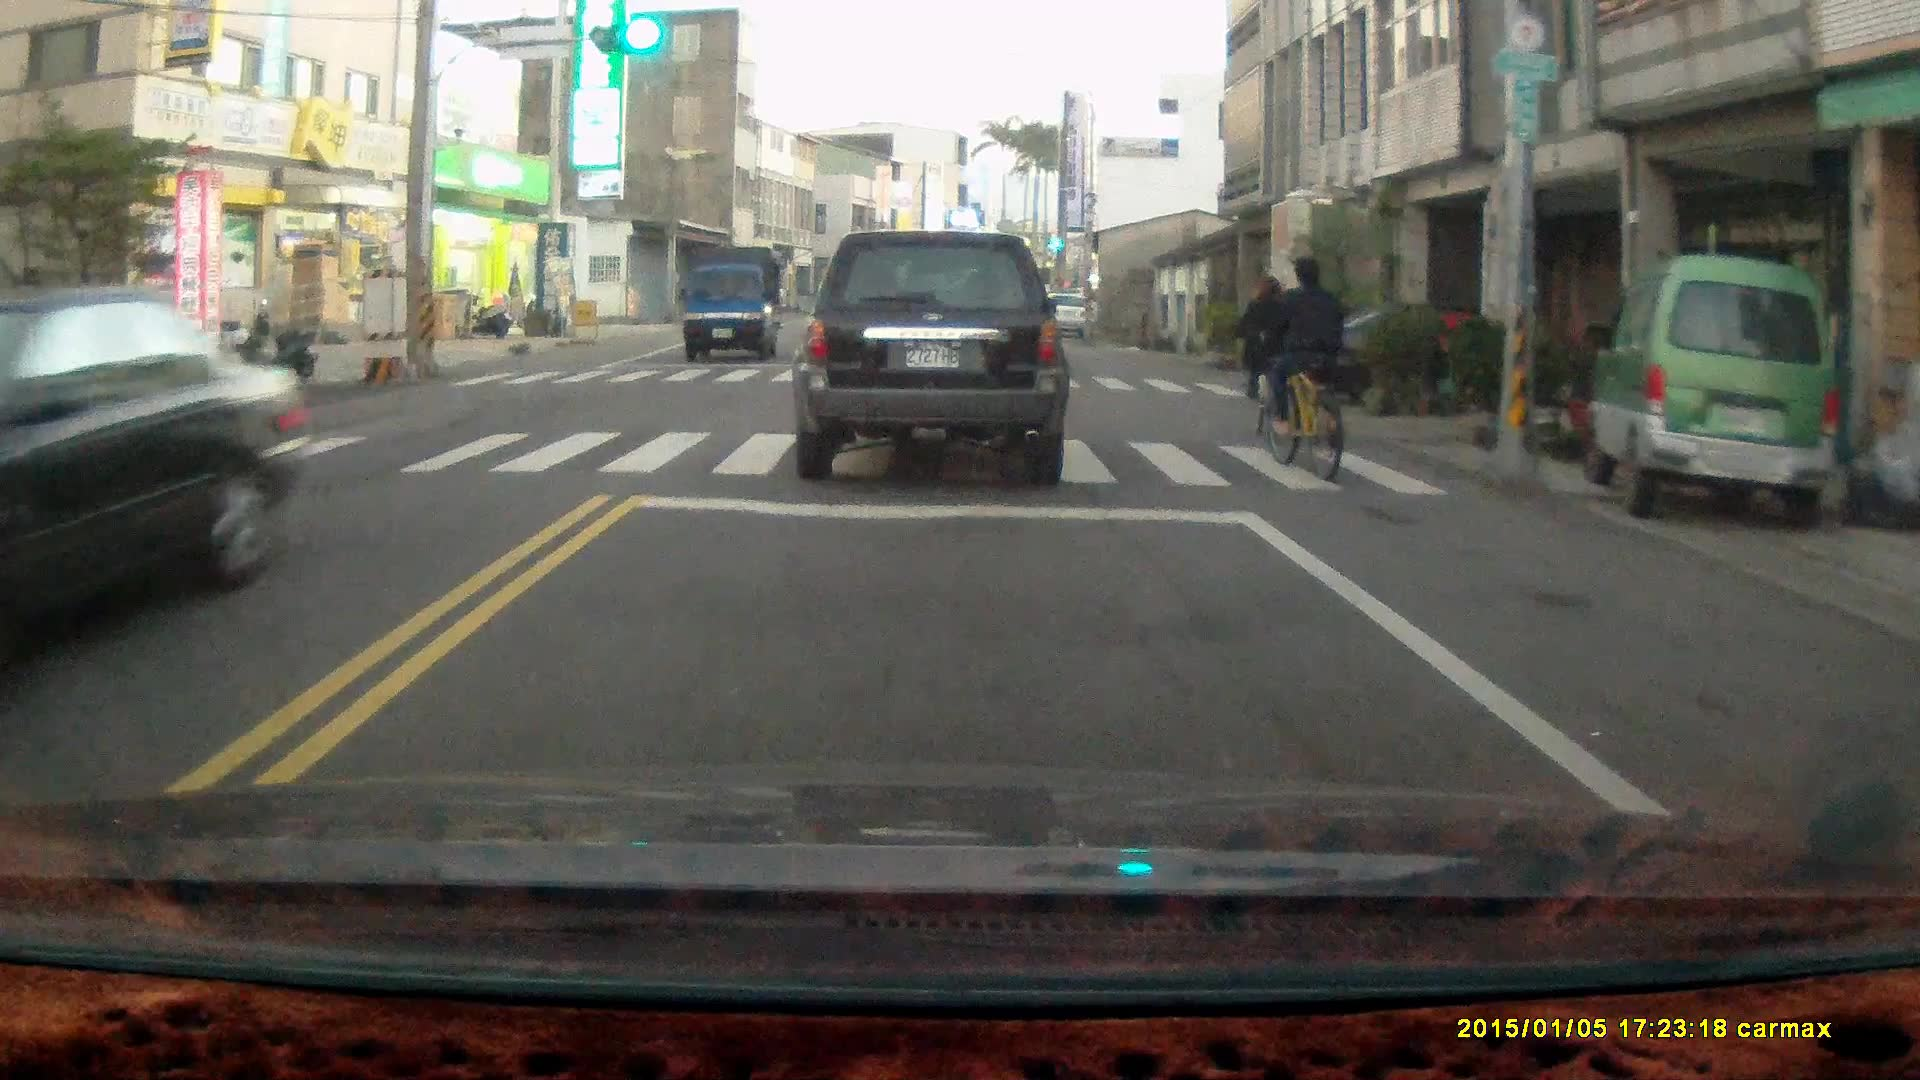rider: (1262, 252, 1352, 478), (1236, 274, 1297, 440)
vehicle: (3, 293, 292, 673), (795, 229, 1070, 485), (1601, 257, 1849, 535), (1317, 304, 1579, 419), (681, 251, 786, 363)
